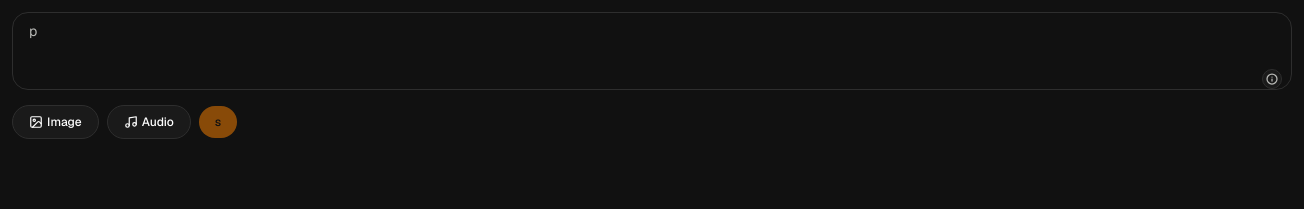
Test: CommentInput (issue mention picker) › replaces an active @ mention with @user:ID and a trailing space
In the text box with placeholder "p": (652, 51) [12,12,1292,90], type "Ping @"
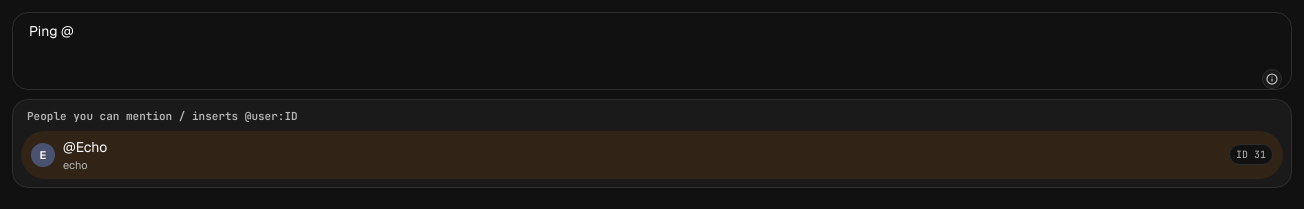
Now the number of options is 1
Press the mouse on the option "E @Echo echo ID 31": (85, 146) [21,130,1283,179]
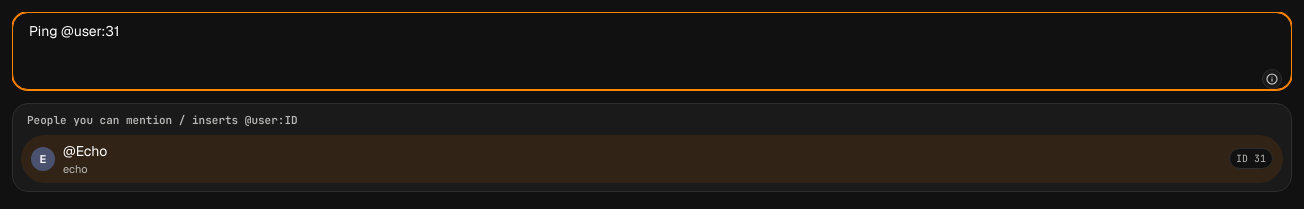
Now the text box holds "Ping @user:31 ", box [12,12,1292,90]
